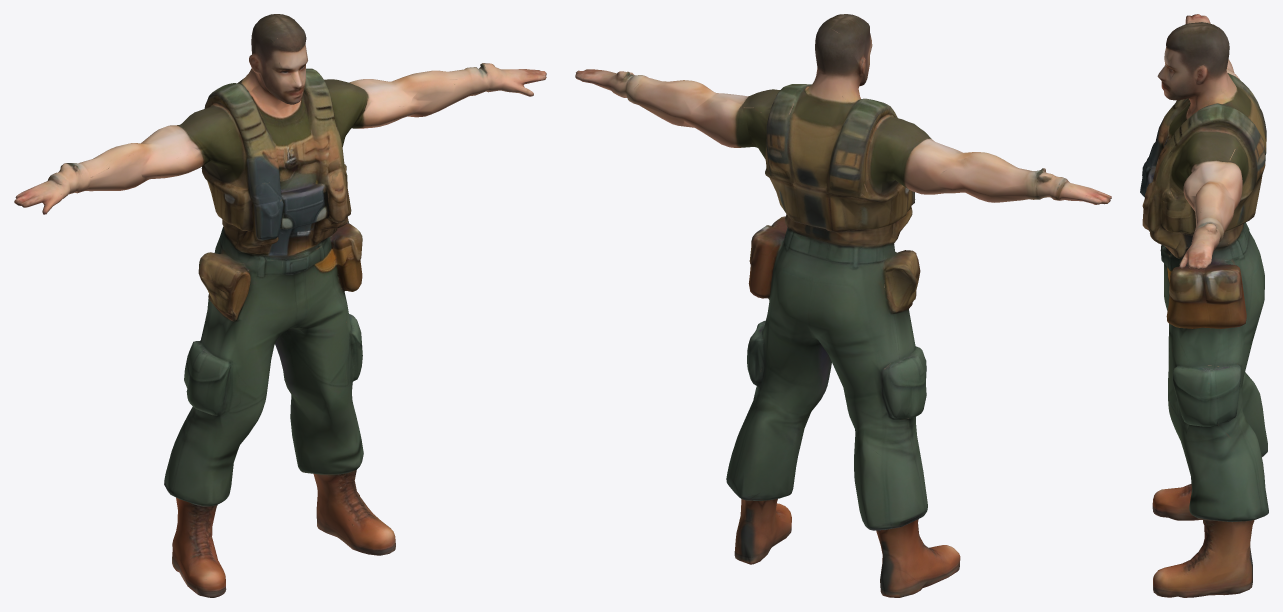
File: soldier.fbx
3 renders of one model, left to right at view 1: azimuth 30°, elevation 25°; view 2: azimuth 150°, elevation 25°; view 3: azimuth 270°, elevation 25°, orthographic. The views are drawn at different scales.
Visible parts, largest first — view 1: Mesh1.0; view 2: Mesh1.0; view 3: Mesh1.0.
Boxes of the visible parts, x1,y1,x2,y2 form: Mesh1.0: [14, 14, 546, 597]; Mesh1.0: [575, 14, 1111, 597]; Mesh1.0: [1140, 14, 1268, 597].
Bounding box in the file's own units: 201 × 195 × 43.19.
Materials: 1 (1 with a texture image).
